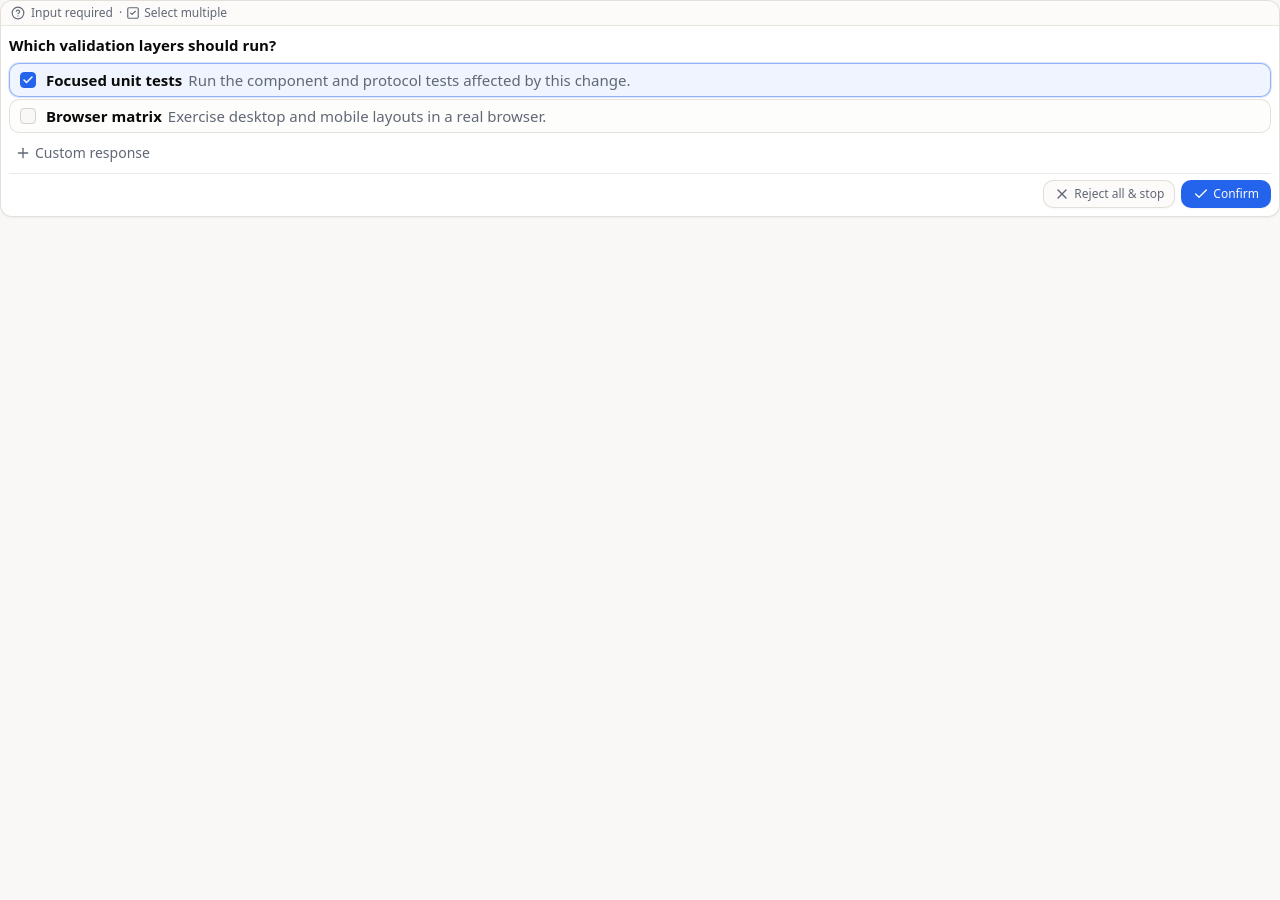
AskUserChoiceCard › submits a trimmed custom response with the same footer action
This screenshot has width=1280, height=900.
Click the button with test id "ask-user-choice-custom-option": x=82, y=152 [9,138,156,166]
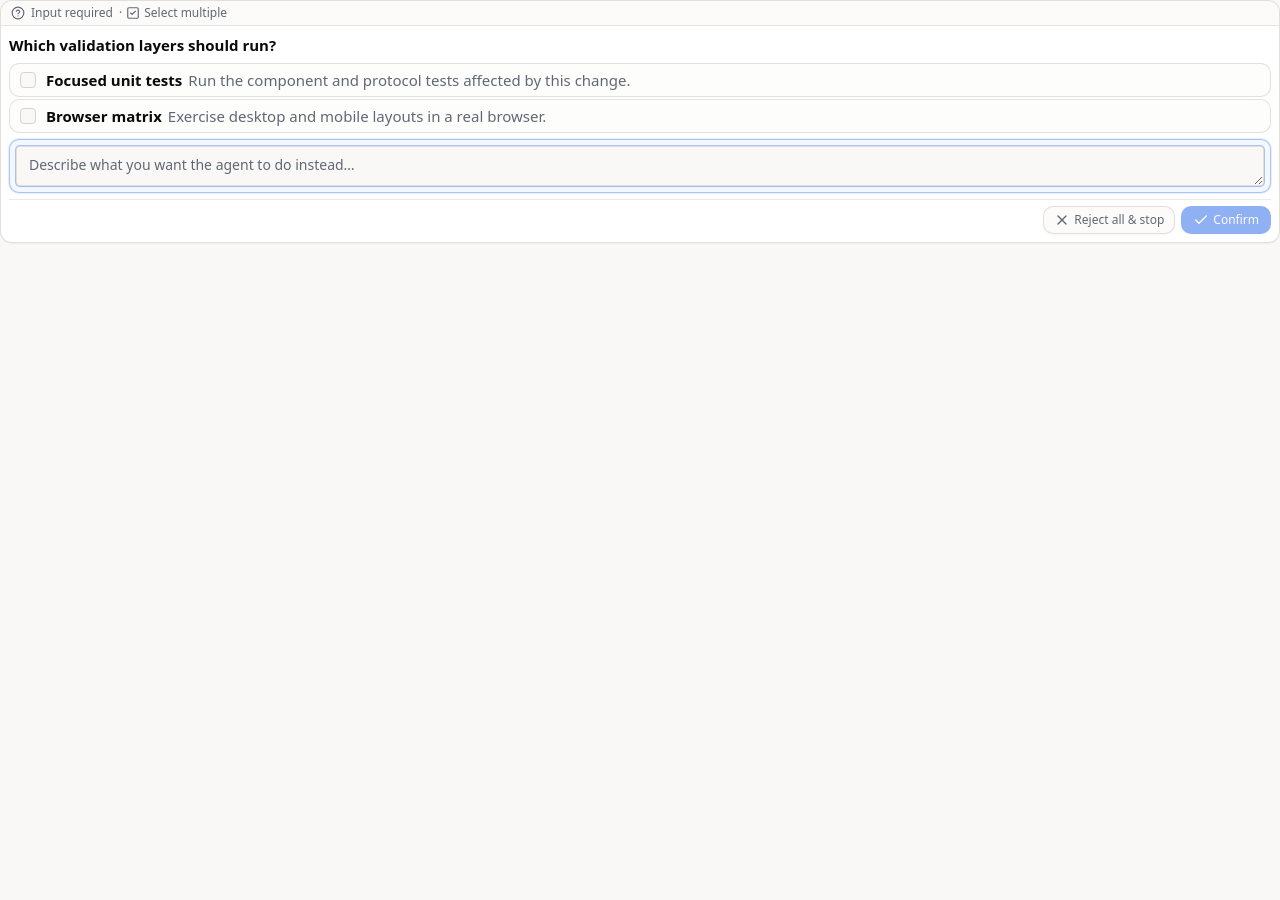
Expected: the button with test id "ask-user-choice-submit" is disabled, [1181,206,1271,234]
In the text box with test id "ask-user-choice-custom-input": x=640, y=166 [16,146,1264,186], type "  Run focused tests, then the browser matrix.  "
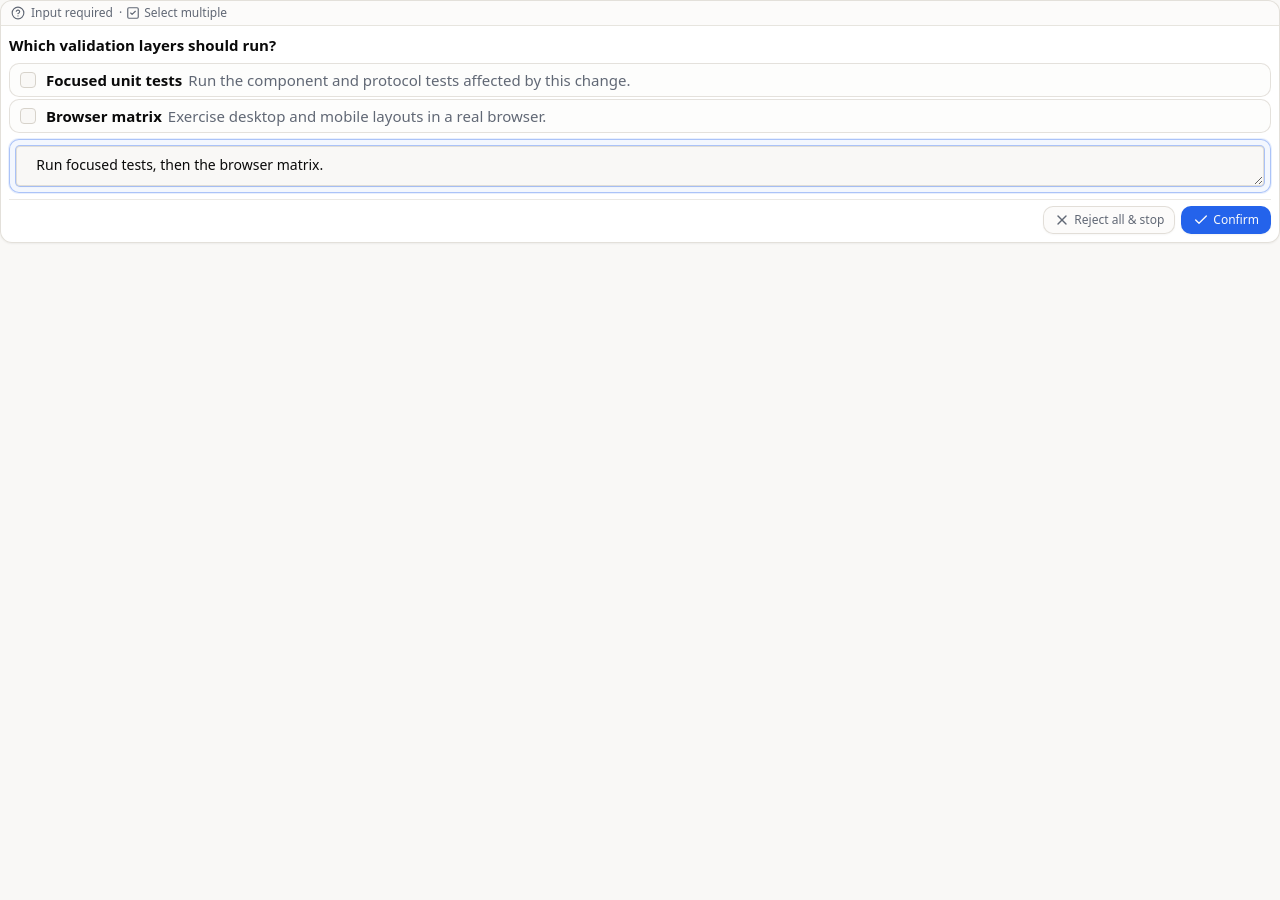
Click the button with test id "ask-user-choice-submit": x=1226, y=220 [1181,206,1271,234]
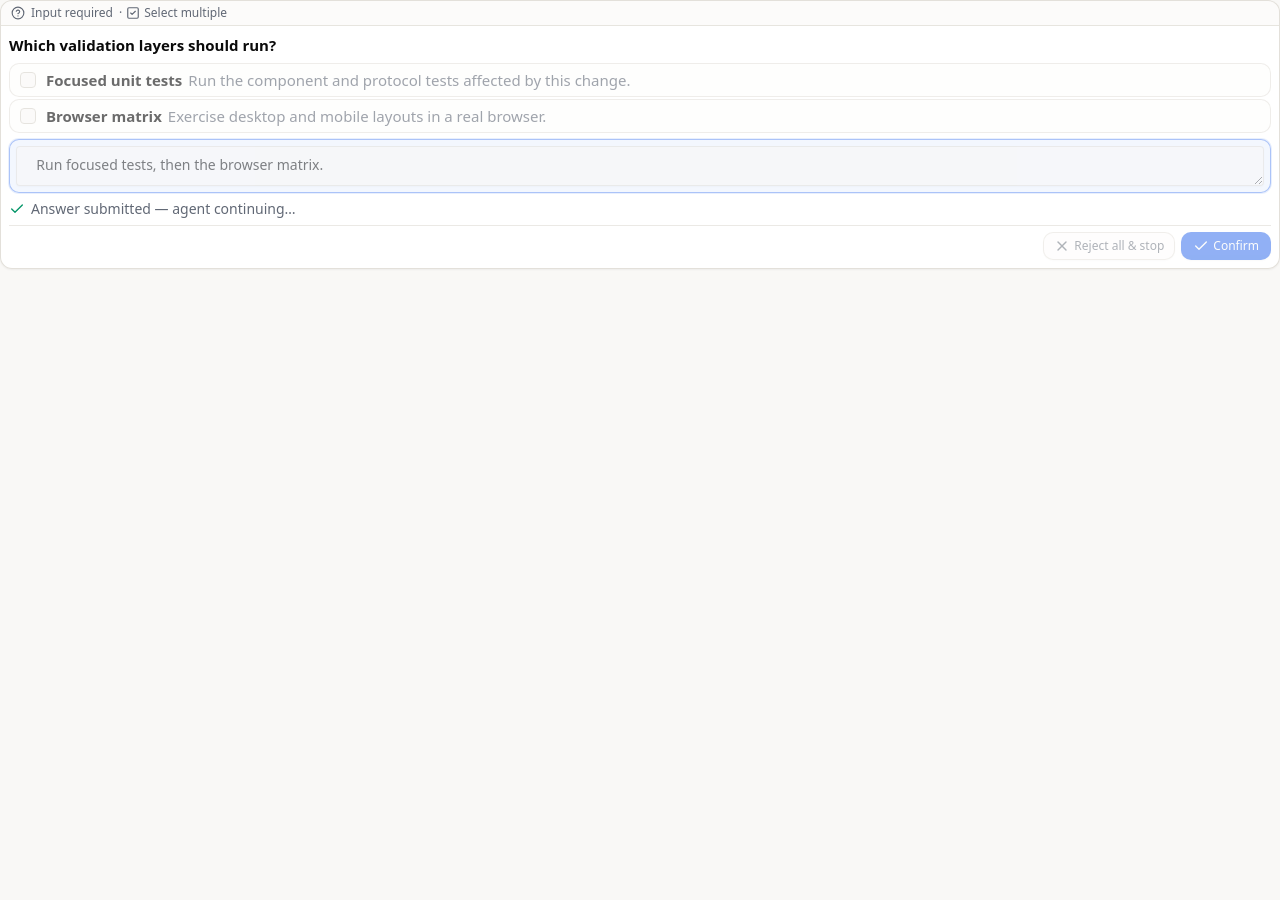
Expected: the text "Answer submitted — agent continuing…" is shown, [9,198,296,218]
